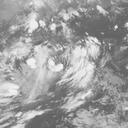cyclone: (31, 38, 101, 90)
